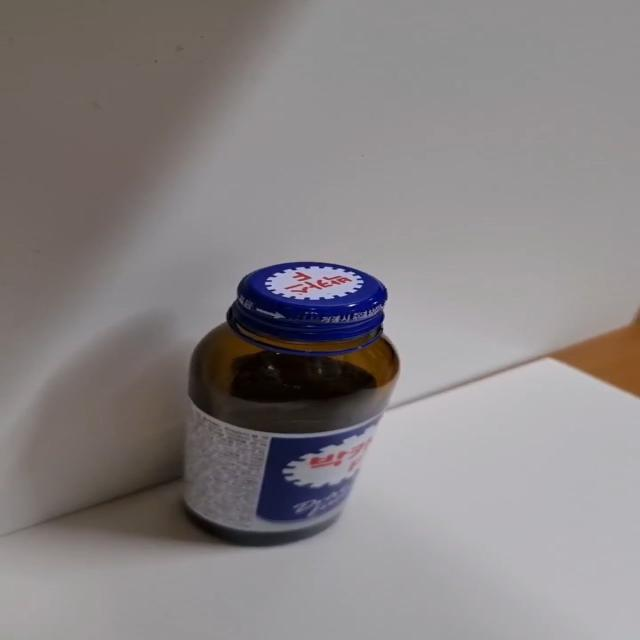Glass: (182, 262, 402, 548)
